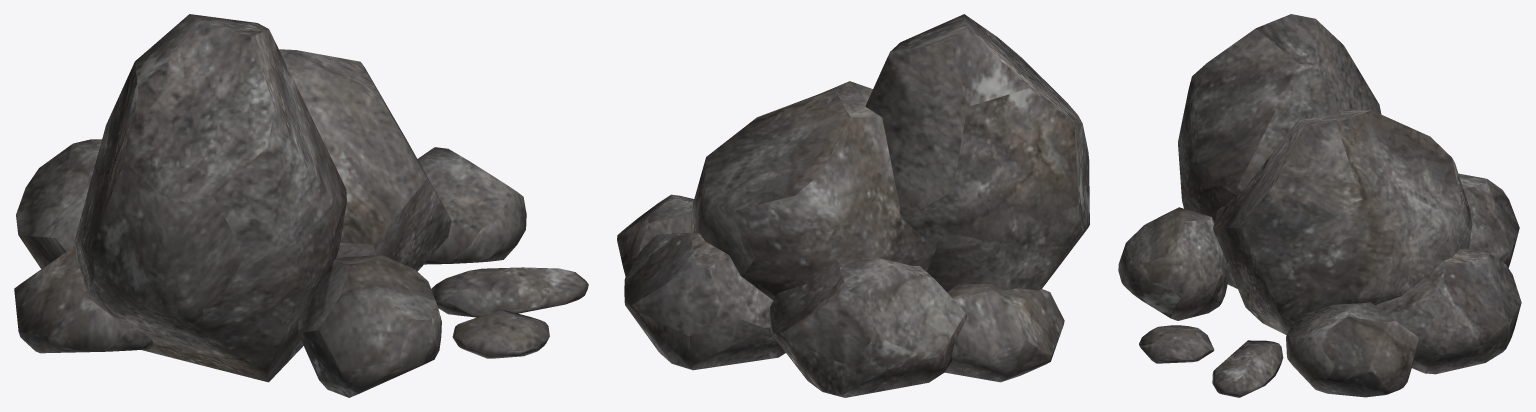
The model's file is Rock.fbx.
3 views of the same model, side by side, from view 1: azimuth 30°, elevation 25°; view 2: azimuth 150°, elevation 25°; view 3: azimuth 270°, elevation 25° (orthographic). The views are drawn at different scales.
Visible parts, largest first — view 1: Rock.003; view 2: Rock.003; view 3: Rock.003.
Part boxes in pixels (x1=…): Rock.003: x1=14, y1=14, x2=588, y2=397; Rock.003: x1=617, y1=14, x2=1089, y2=397; Rock.003: x1=1118, y1=14, x2=1521, y2=397.
Bounding box in the file's own units: 321 × 211 × 291.
